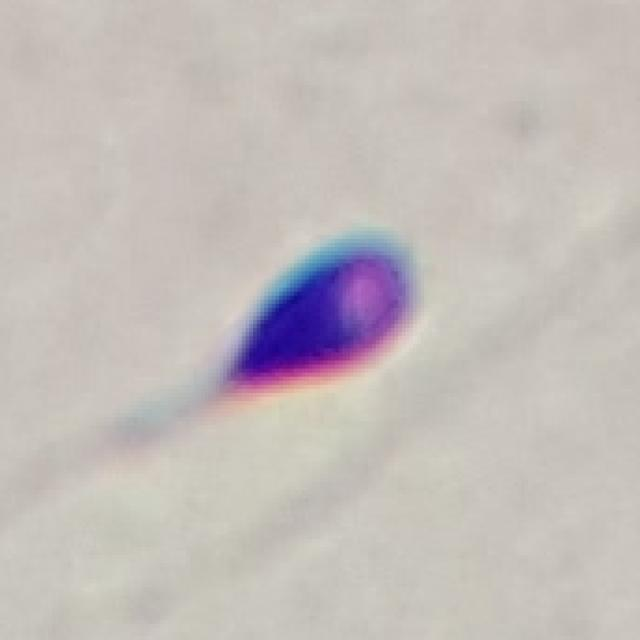normal sperm: (80, 190, 457, 486)
